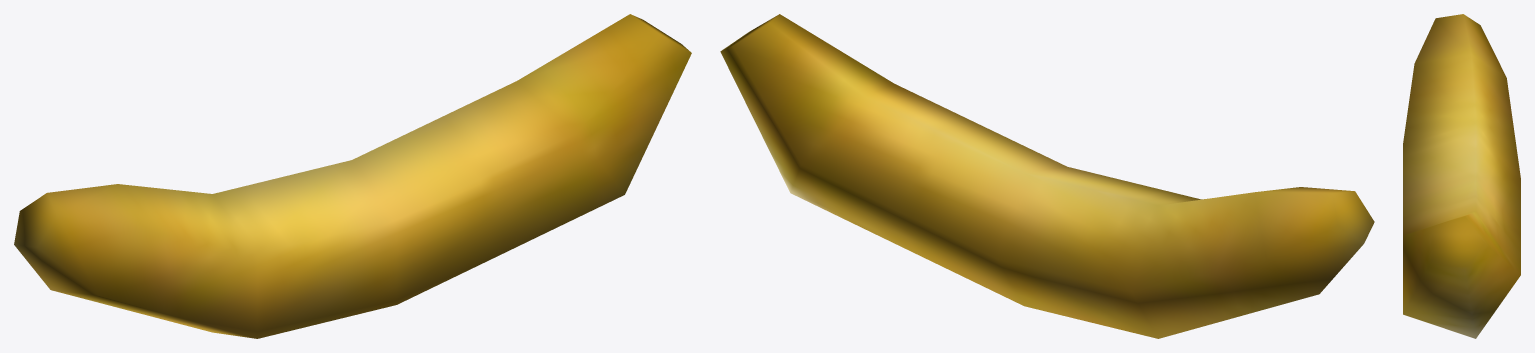
Rendered from food.banana.glb.
3 renders of one model, left to right at view 1: azimuth 30°, elevation 25°; view 2: azimuth 150°, elevation 25°; view 3: azimuth 270°, elevation 25°, orthographic. The views are drawn at different scales.
Visible parts, largest first — view 1: platano; view 2: platano; view 3: platano.
Boxes of the visible parts, left/top/right/bottom form: platano: left=14, top=14, right=691, bottom=338; platano: left=720, top=14, right=1374, bottom=338; platano: left=1403, top=14, right=1520, bottom=338.
Bounding box in the file's own units: 0.2 × 0.0639 × 0.0377.
Materials: 1 (1 with a texture image).
